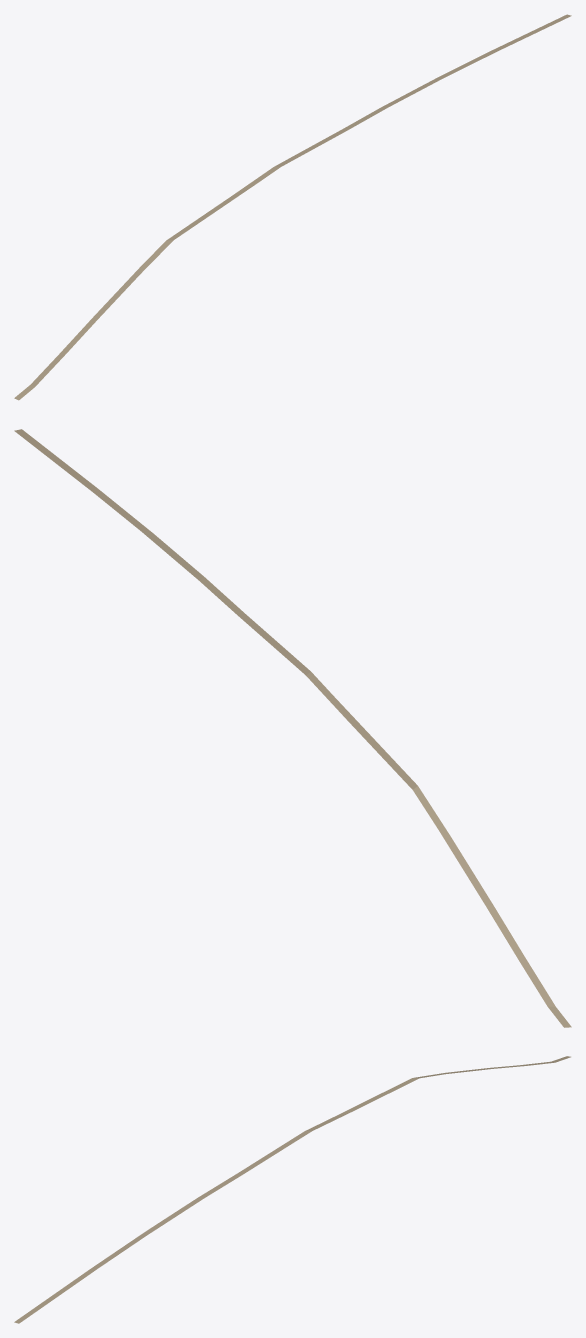
File: farm_11_0_track.glb
3 renders of one model, top to bottom at view 1: azimuth 90°, elevation 25°; view 2: azimuth 150°, elevation 25°; view 3: azimuth 270°, elevation 25°, orthographic. The views are drawn at different scales.
Parts seen in each view (by area): view 1: geometry_0; view 2: geometry_0; view 3: geometry_0.
Part boxes in pixels (x1=…): geometry_0: x1=14, y1=14, x2=571, y2=400; geometry_0: x1=14, y1=429, x2=571, y2=1027; geometry_0: x1=14, y1=1056, x2=570, y2=1323.
Bounding box in the file's own units: 414 × 46.83 × 299.
